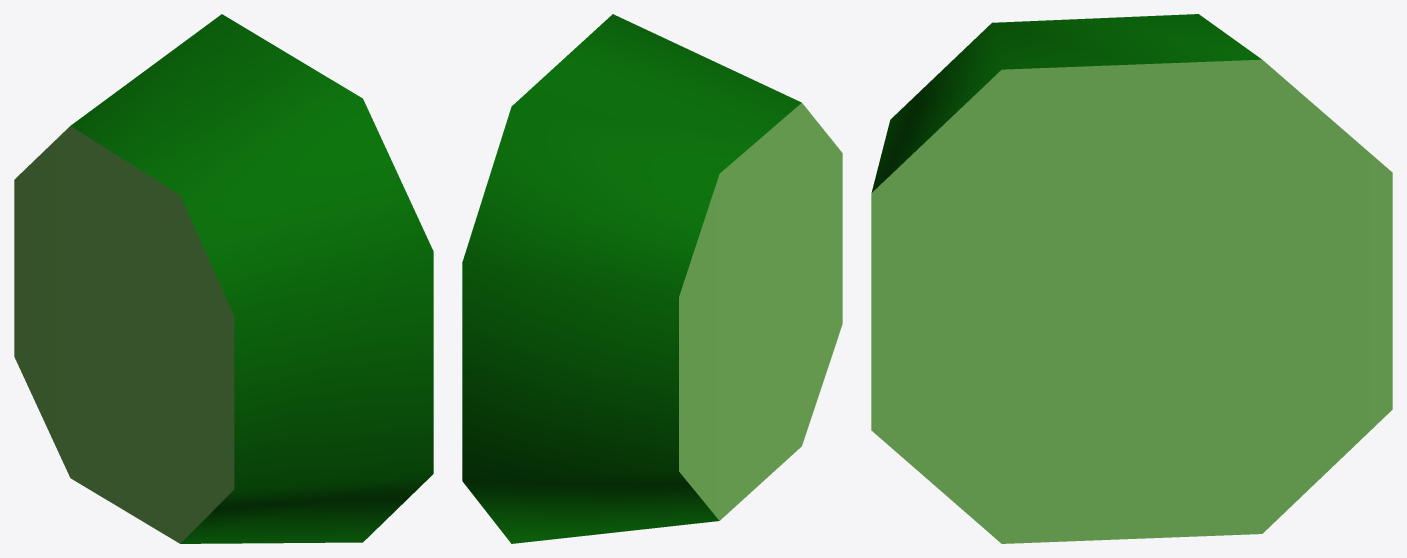
File: mesh_CucumberSlice_Stage03.fbx
3 views of the same model, side by side, from view 1: azimuth 30°, elevation 25°; view 2: azimuth 150°, elevation 25°; view 3: azimuth 270°, elevation 25° (orthographic). The views are drawn at different scales.
Visible parts, largest first — view 1: mesh_CucumberSlice_Stage03; view 2: mesh_CucumberSlice_Stage03; view 3: mesh_CucumberSlice_Stage03.
Part boxes in pixels (x1,y1,x2,y2): mesh_CucumberSlice_Stage03: (14,14,433,543); mesh_CucumberSlice_Stage03: (462,14,842,543); mesh_CucumberSlice_Stage03: (871,14,1392,543).
Bounding box in the file's own units: 0.0188 × 0.0367 × 0.0365.
